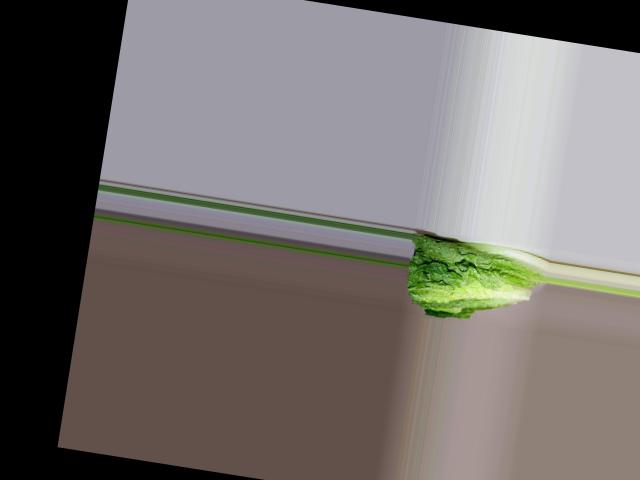lettuce: (401, 228, 545, 322)
